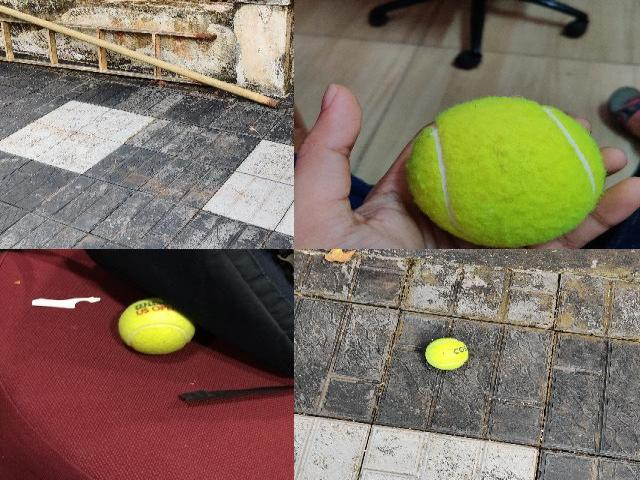tennis-ball: (406, 97, 604, 247), (116, 296, 196, 354), (424, 336, 468, 370)
